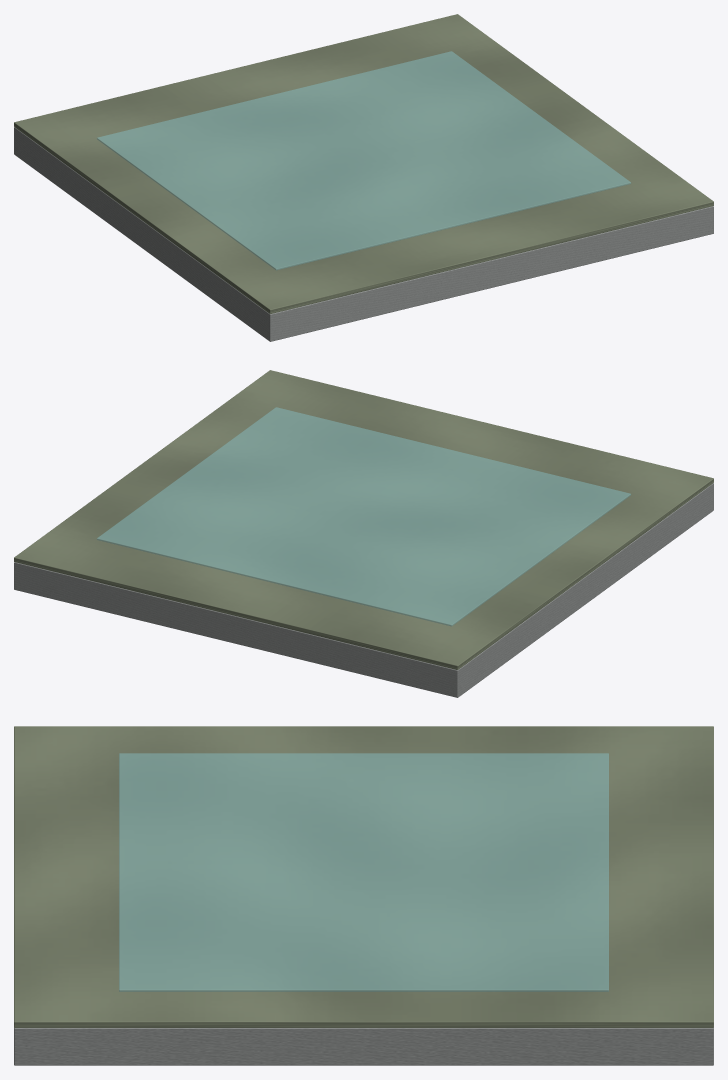
The model's file is liminal-spaces-kit-pooled-floor-d892639e__25192.glb.
3 views of the same model, one above another, from view 1: azimuth 30°, elevation 25°; view 2: azimuth 150°, elevation 25°; view 3: azimuth 270°, elevation 25° (orthographic). The views are drawn at different scales.
Parts seen in each view (by area): view 1: pooled-floor; view 2: pooled-floor; view 3: pooled-floor.
Part boxes in pixels (bbox=[...]): pooled-floor: bbox=[14, 14, 713, 341]; pooled-floor: bbox=[14, 370, 713, 697]; pooled-floor: bbox=[14, 726, 713, 1065].
Bounding box in the file's own units: 2 × 0.1479 × 2.
3 materials, 2 textured.
